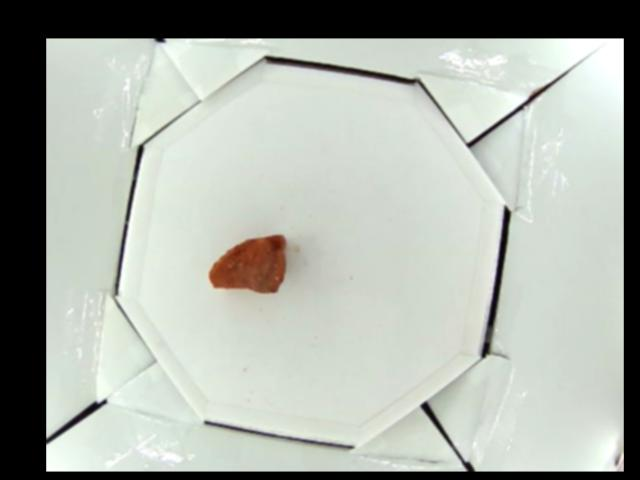Brisk: (205, 235, 287, 293)
